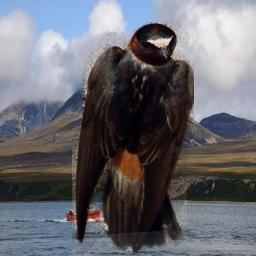Swallow: (72, 22, 194, 256)
